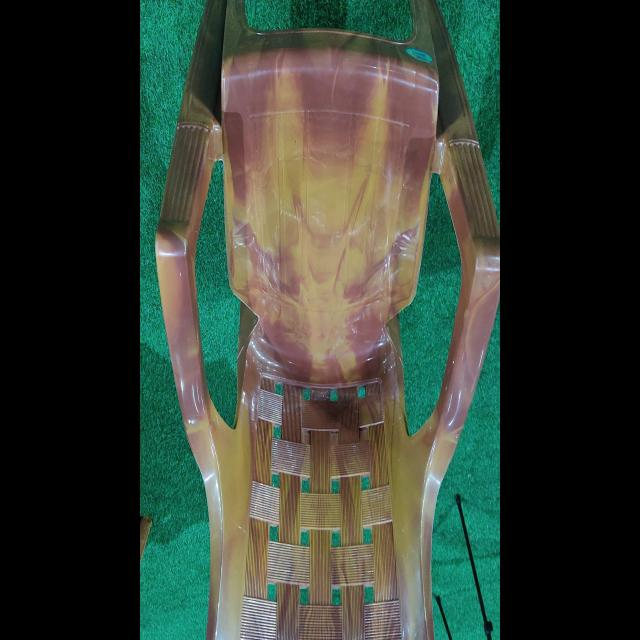Chair: (154, 1, 500, 638)
